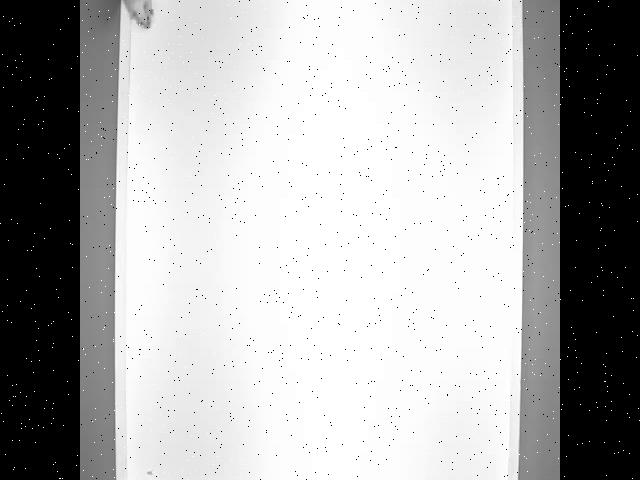Tikus: (113, 0, 159, 29)
